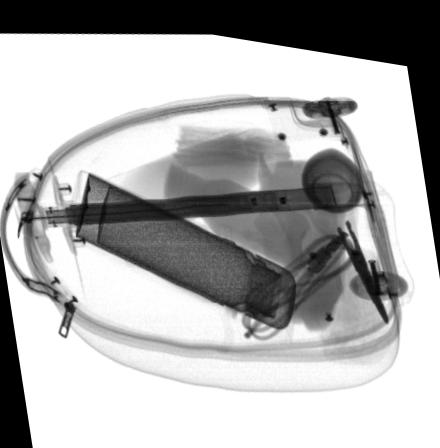Scissors: (305, 166, 391, 314)
